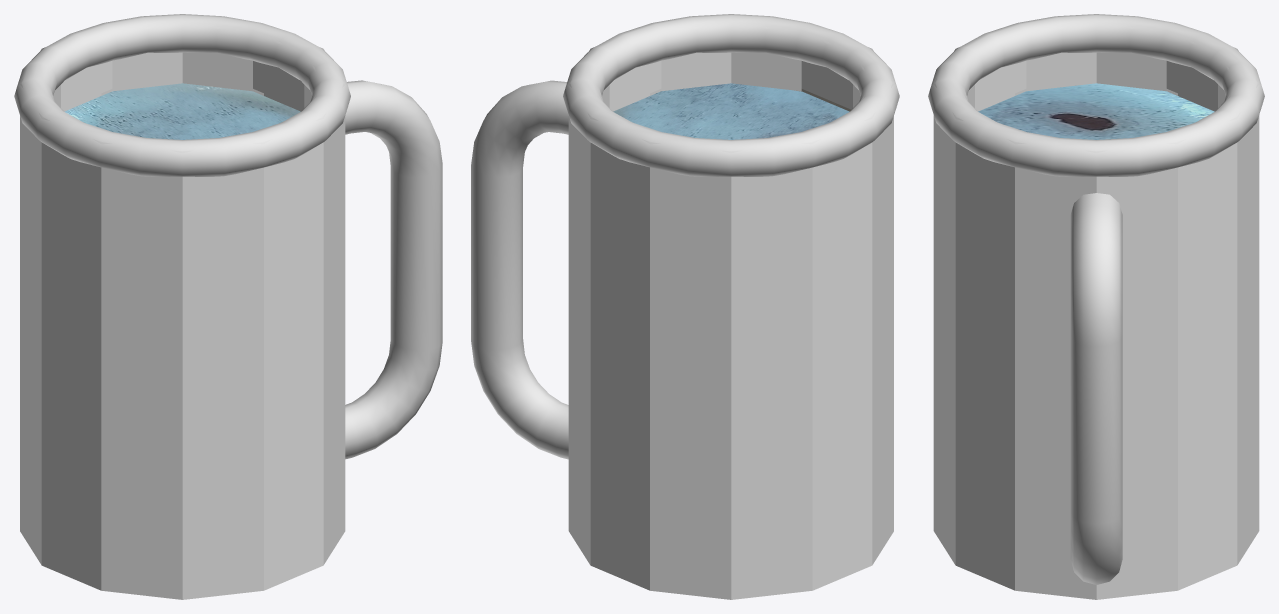
Rendered from Beer01.fbx.
3 views of the same model, side by side, from view 1: azimuth 30°, elevation 25°; view 2: azimuth 150°, elevation 25°; view 3: azimuth 270°, elevation 25° (orthographic).
Parts seen in each view (by area): view 1: Tarro, Escarcha, Agaradera; view 2: Tarro, Escarcha, Agaradera; view 3: Tarro, Escarcha, Agaradera.
Part boxes in pixels (x1,y1,x2,y2): Tarro: [20, 26, 345, 599]; Escarcha: [14, 14, 350, 176]; Agaradera: [345, 80, 442, 459]; Tarro: [568, 26, 893, 599]; Escarcha: [563, 14, 899, 176]; Agaradera: [471, 80, 568, 459]; Tarro: [933, 26, 1259, 599]; Escarcha: [928, 14, 1264, 176]; Agaradera: [1070, 193, 1122, 584].
Bounding box in the file's own units: 286 × 307 × 207.
